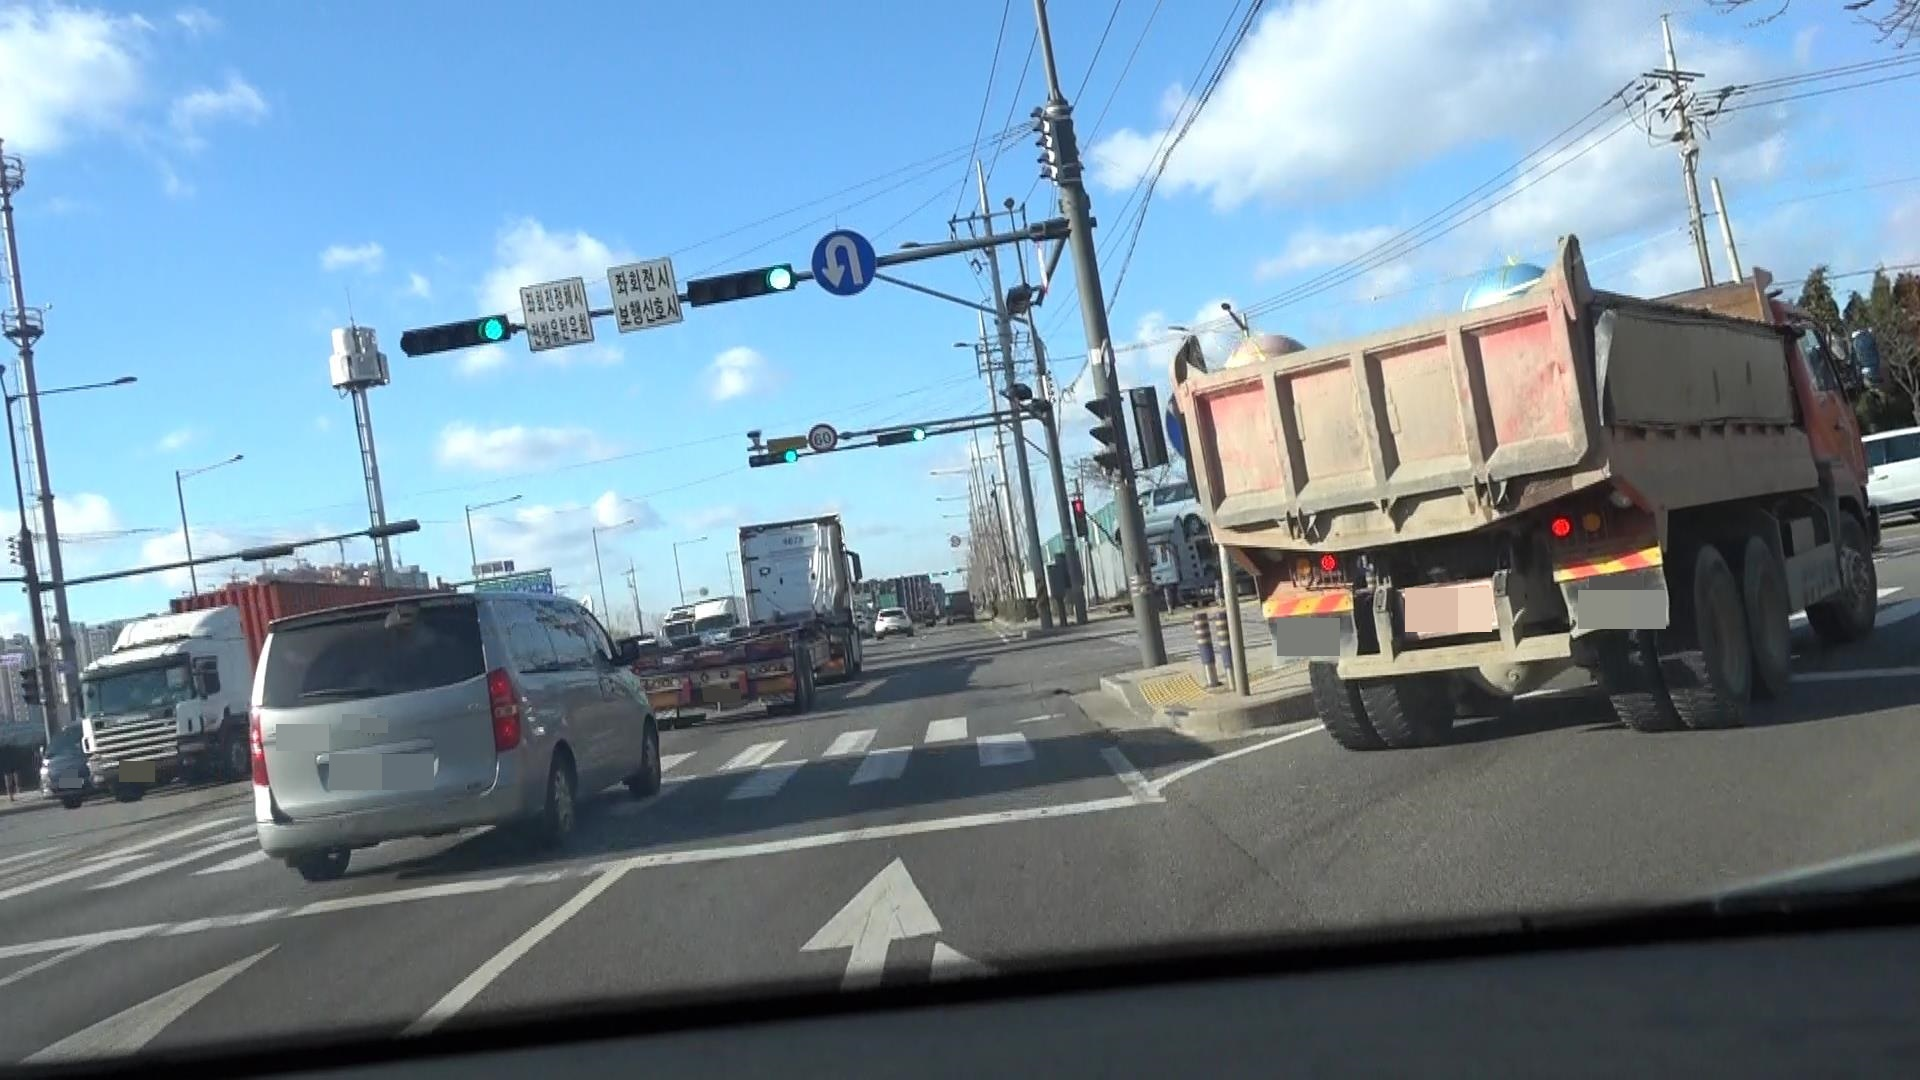불법차량: (1167, 232, 1880, 753)
